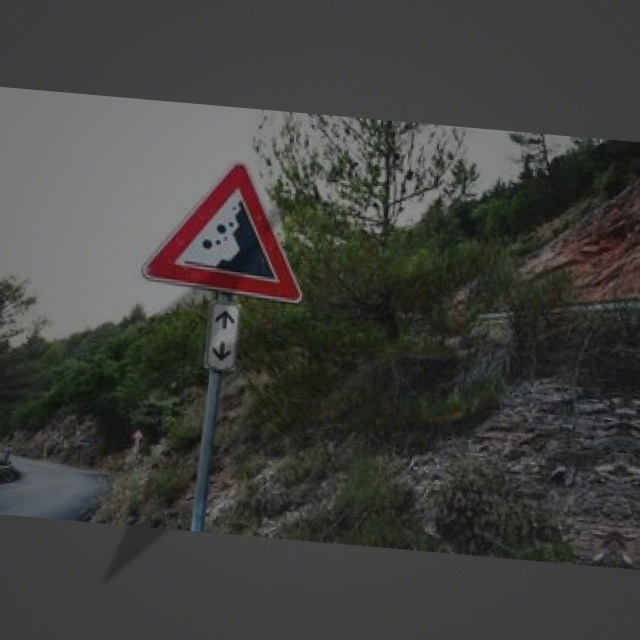Falling_Rocks: (133, 156, 319, 302)
